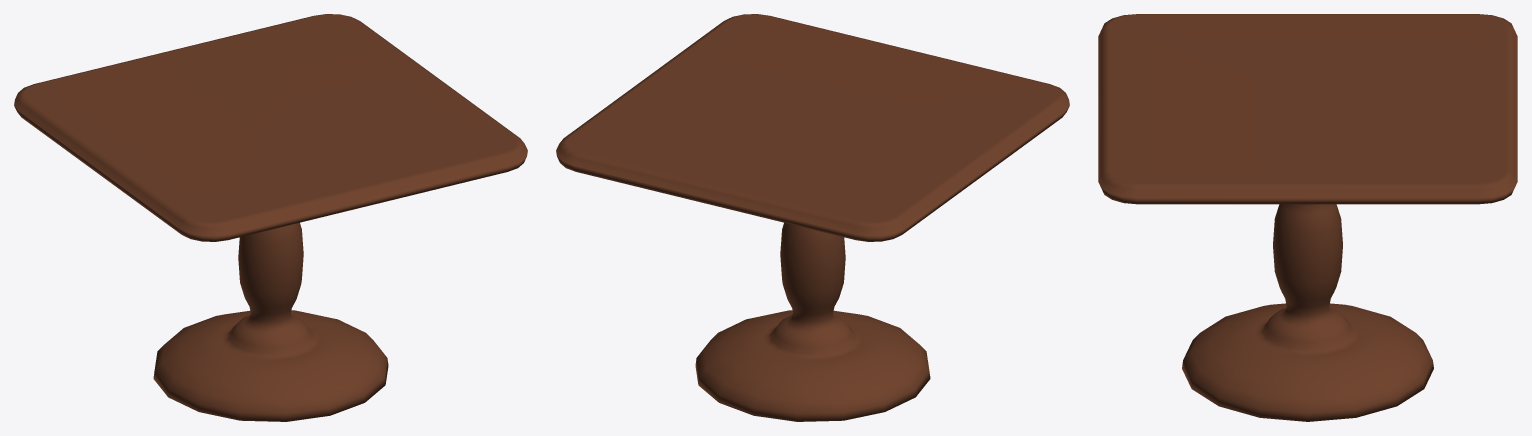
File: table_square.fbx
The picture shows the model from 3 angles, left to right: view 1: azimuth 30°, elevation 25°; view 2: azimuth 150°, elevation 25°; view 3: azimuth 270°, elevation 25°; orthographic projection. The views are drawn at different scales.
Visible parts, largest first — view 1: table_square; view 2: table_square; view 3: table_square.
Part boxes in pixels (left/top/right/bottom): table_square: left=14, top=14, right=527, bottom=421; table_square: left=556, top=14, right=1069, bottom=421; table_square: left=1098, top=14, right=1517, bottom=421.
Bounding box in the file's own units: 1.08 × 1.07 × 0.76.
